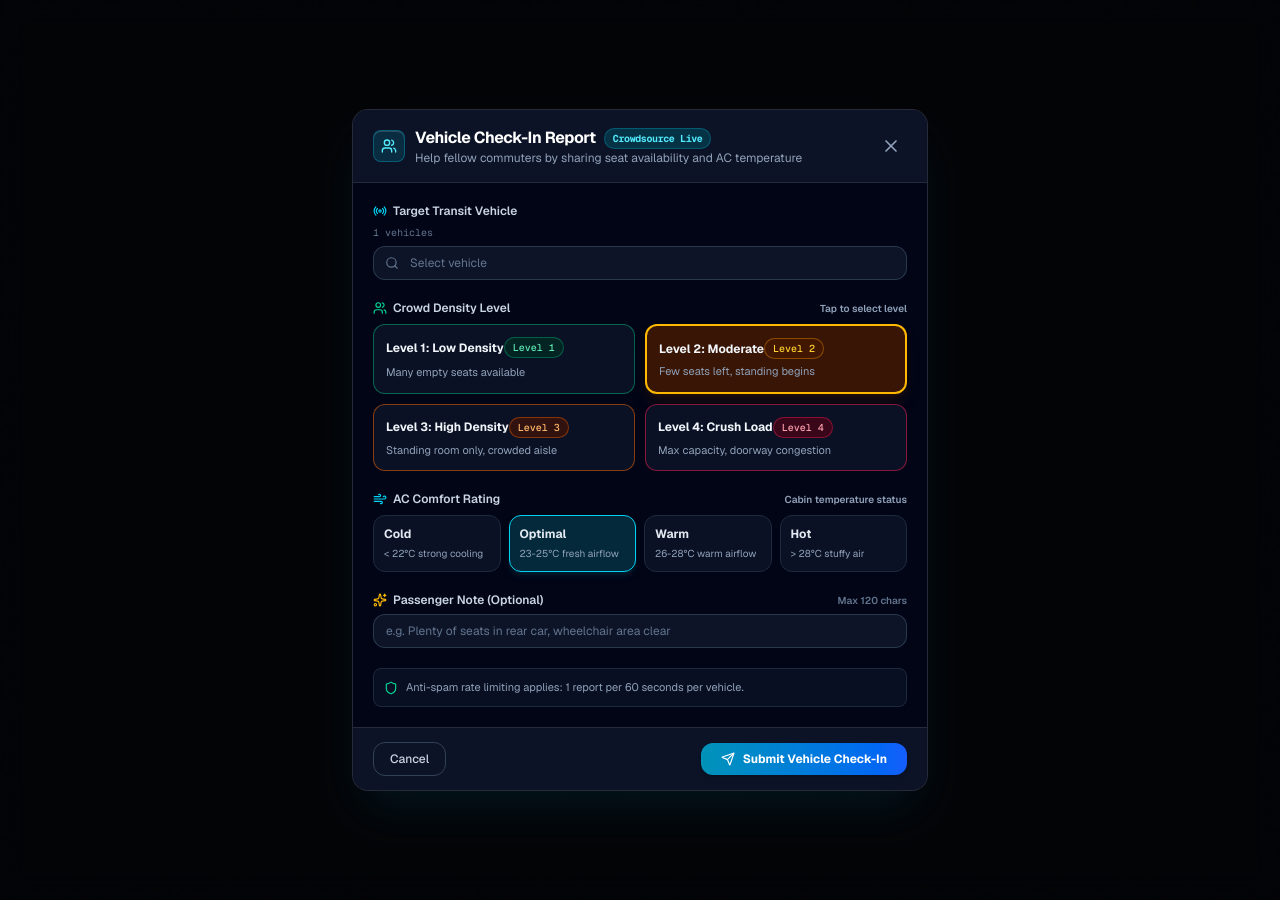
Test case: crowd submit validation › error clears once a vehicle is chosen in the combobox
Expected: the dialog is shown, [352,109,928,791]
Click the button "Submit Vehicle Check-In" at x=804, y=759, box [701,743,907,775]
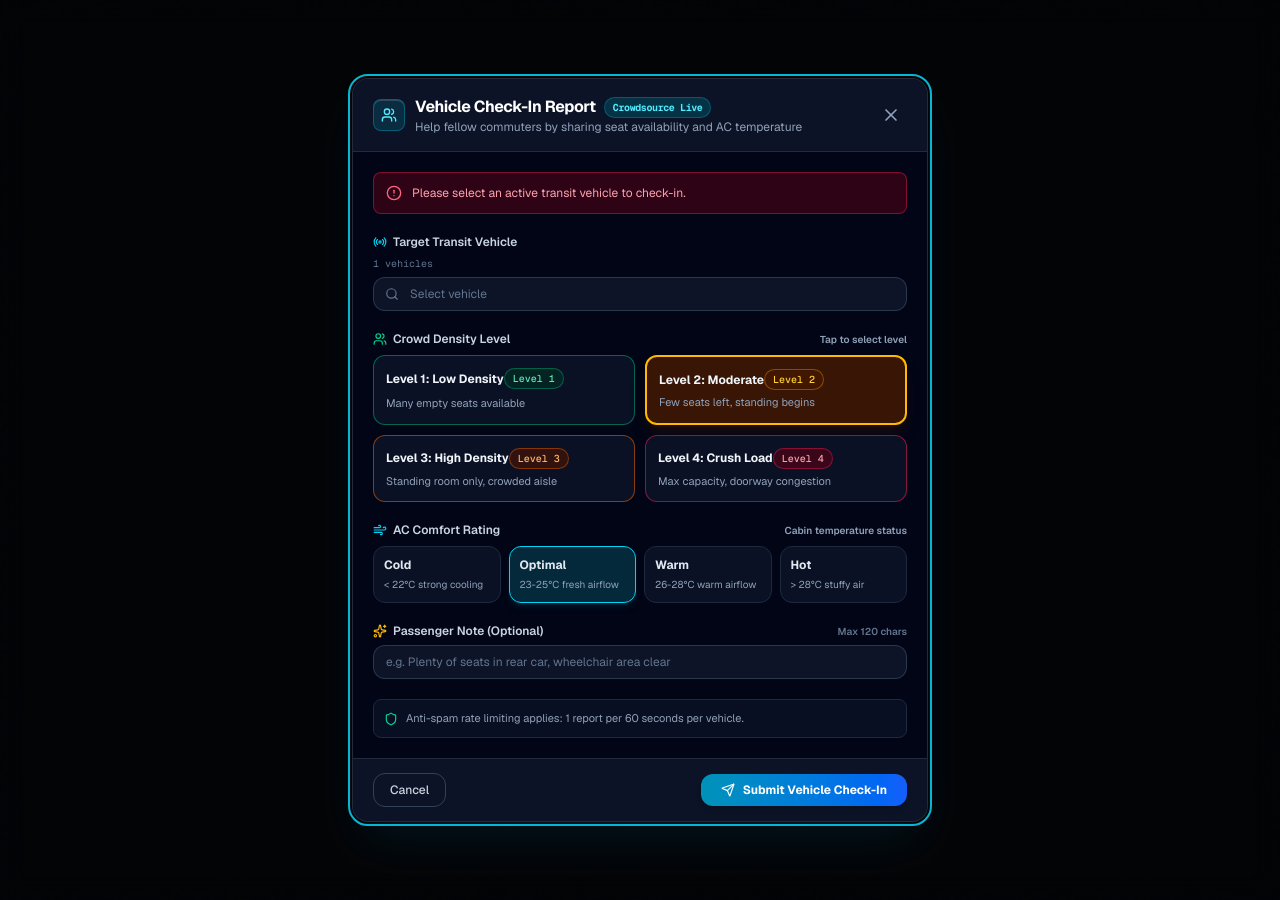
Now the message "Please select an active transit vehicle to check-in." is shown, box [373,172,907,214]
Type "TS-01" into the dropdown labelled "Target Transit Vehicle" at x=640, y=294, box [373,277,907,311]
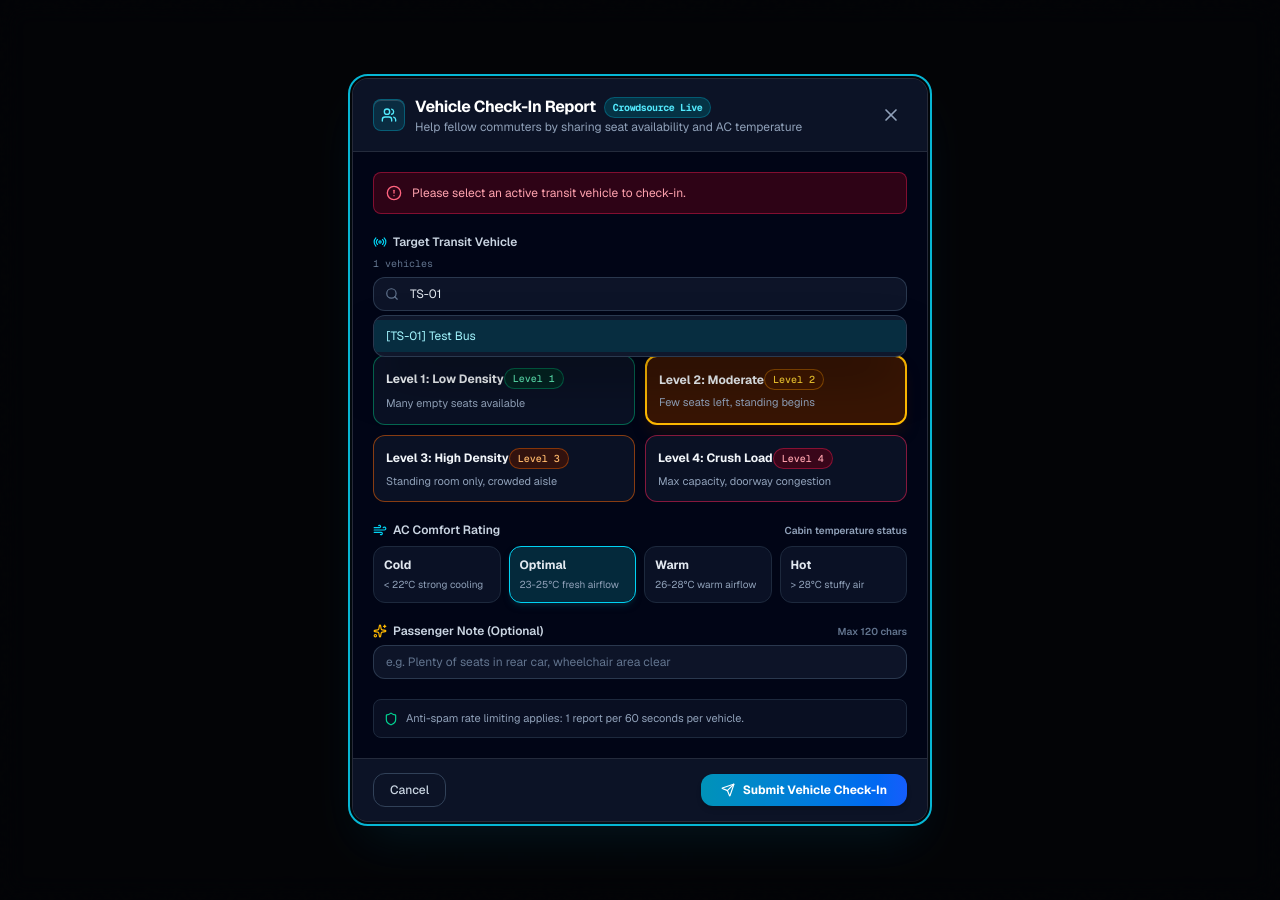
Click the option "[TS-01] Test Bus" at x=406, y=336, box [374,320,906,352]
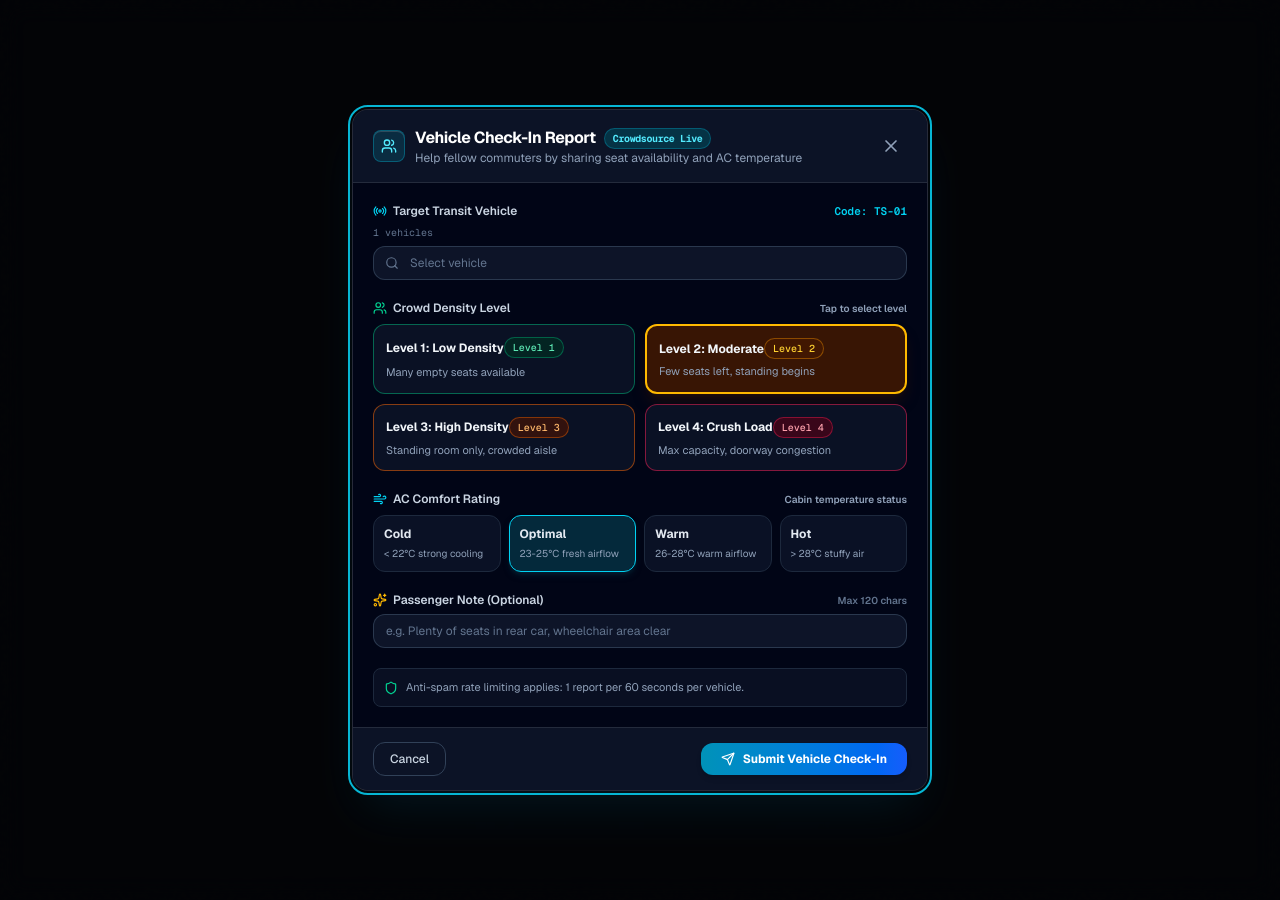
Now the message "Please select an active transit vehicle to check-in." is gone
